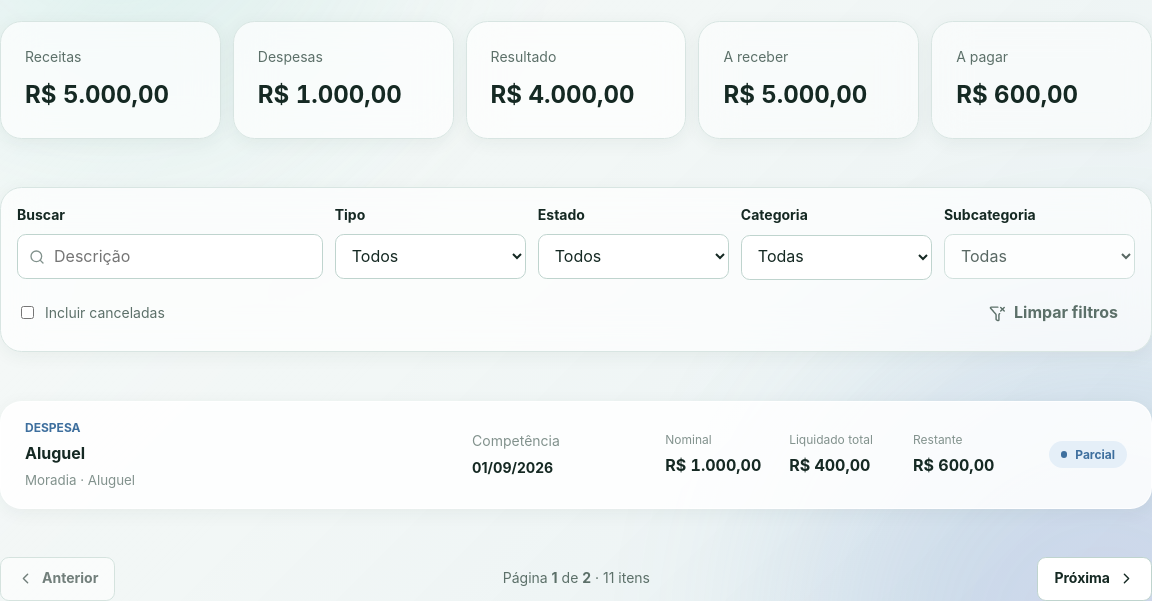
Test: Movimentações Web › mostra erro da liquidação sem fechar detalhe
The image size is (1152, 601).
(page scrolled)
Click the text "Aluguel". click: x=55, y=453
box: [25,443,85,463]
(page scrolled)
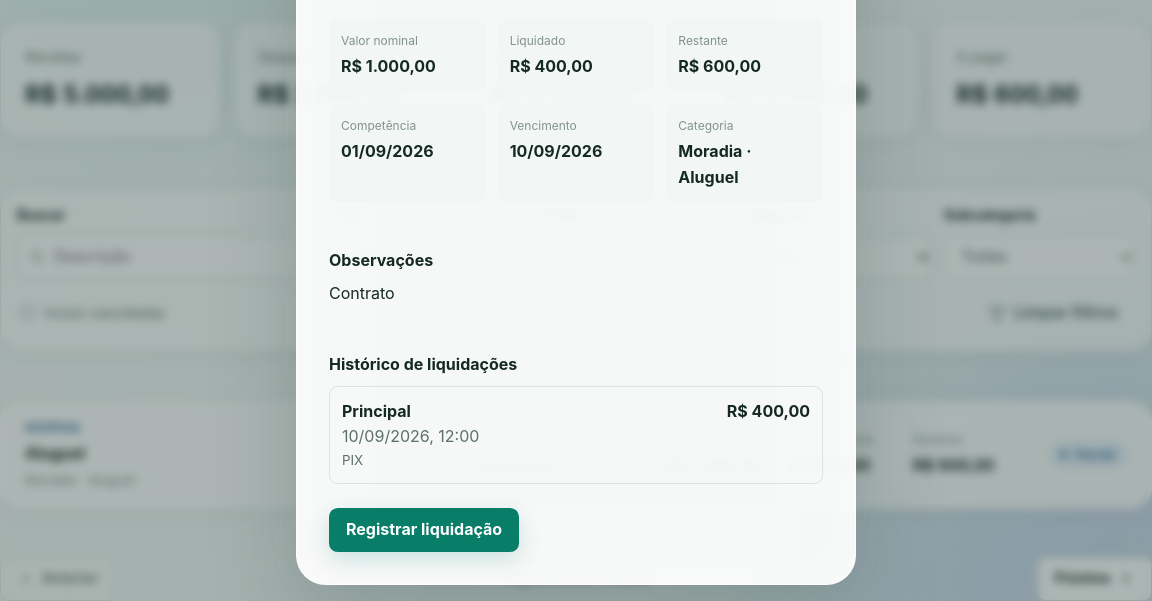
Click the button "Registrar liquidação". click: x=424, y=530
box: [329,508,519,552]
(page scrolled)
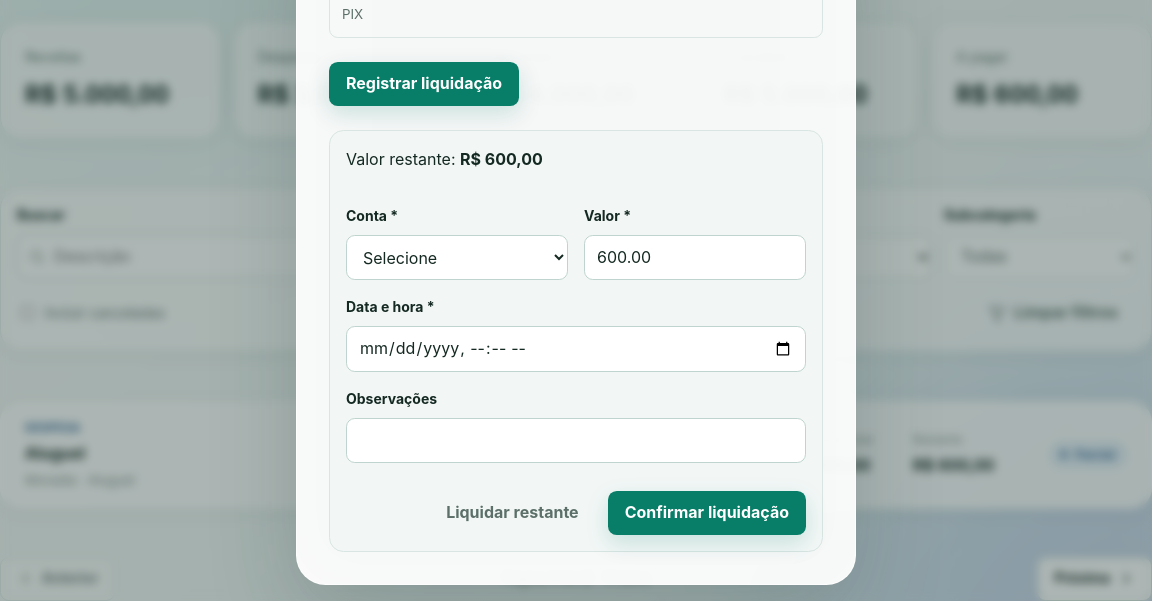
Select "Principal" in the dropdown labelled "Conta *". click: x=457, y=258
box: [346,235,568,280]
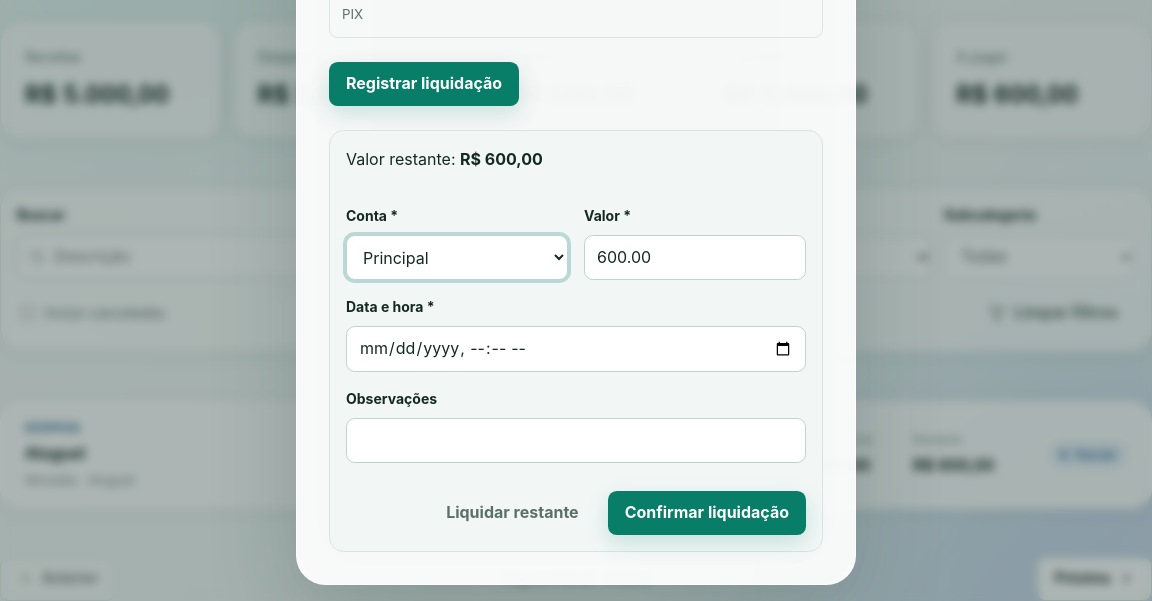
Type "2026-09-11T10:00" into the field labelled "Data e hora *". click: x=576, y=349
box: [346,326,806,372]
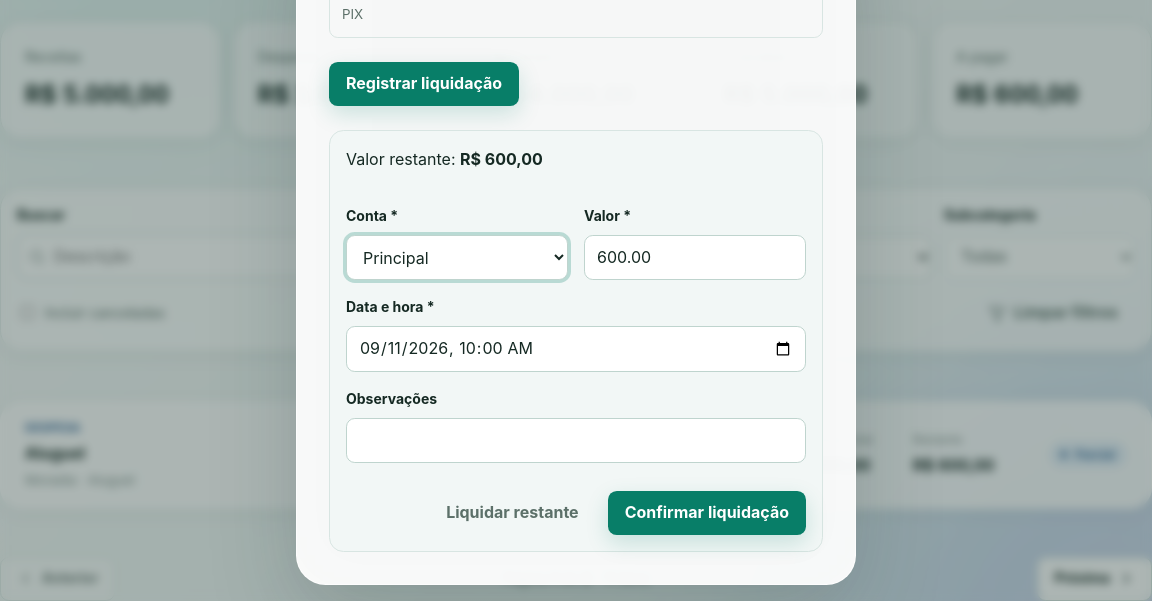
Click the button "Confirmar liquidação". click: x=707, y=513
box: [608,491,806,535]
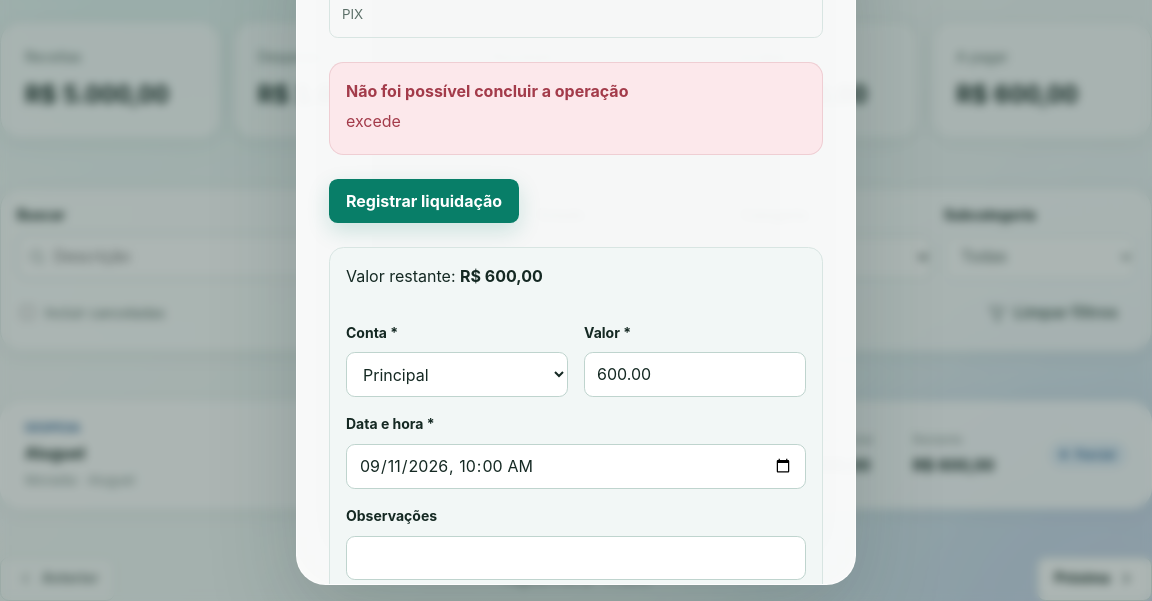
Now the message "Não foi possível concluir a operação excede" is shown, box [329,62,823,155]
